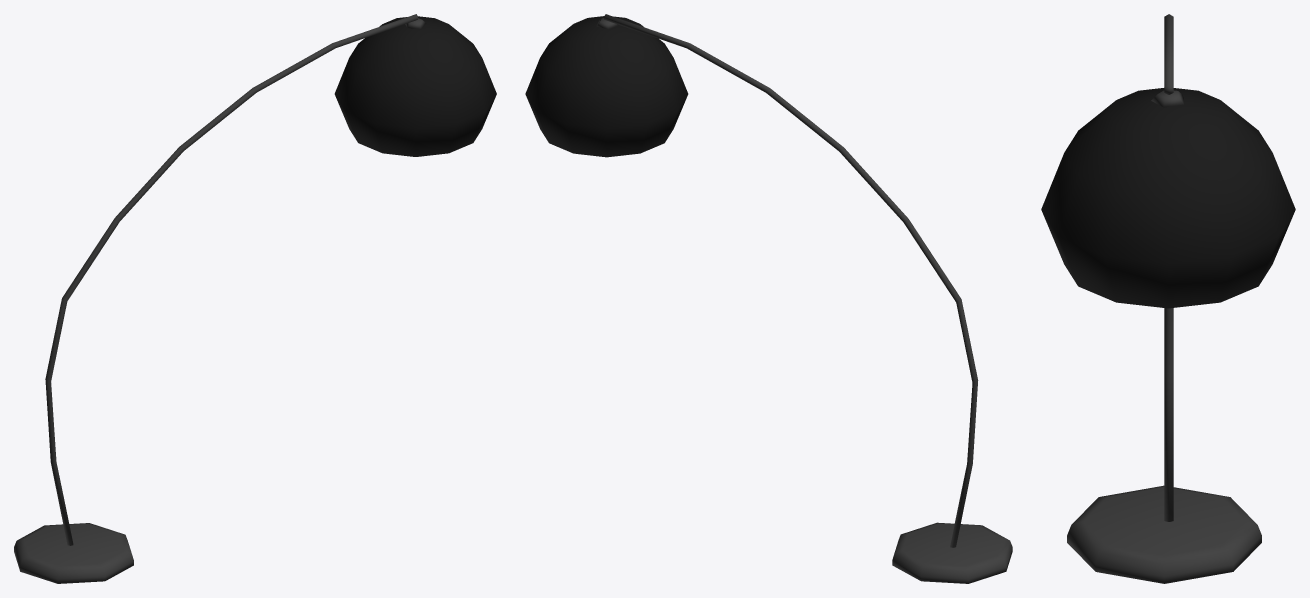
File: Arc_Lamp_H.FBX
3 renders of one model, left to right at view 1: azimuth 30°, elevation 25°; view 2: azimuth 150°, elevation 25°; view 3: azimuth 270°, elevation 25°, orthographic. The views are drawn at different scales.
Parts seen in each view (by area): view 1: Arc_Lamp; view 2: Arc_Lamp; view 3: Arc_Lamp.
Boxes of the visible parts, x1,y1,x2,y2 form: Arc_Lamp: [14, 14, 496, 583]; Arc_Lamp: [525, 14, 1012, 583]; Arc_Lamp: [1041, 14, 1295, 583].
Bounding box in the file's own units: 316 × 297 × 95.22.
